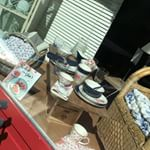cups: (66, 122, 93, 149), (83, 77, 106, 102), (52, 70, 75, 89)
